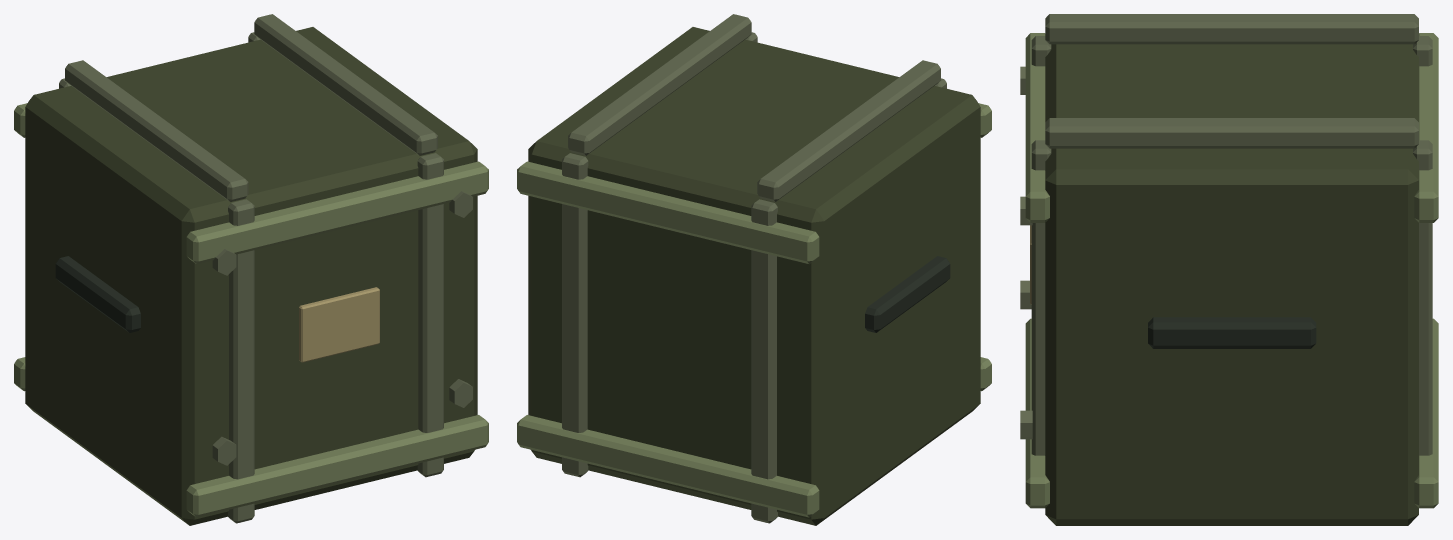
Rendered from crateInstances.obj.
The picture shows the model from 3 angles, left to right: view 1: azimuth 30°, elevation 25°; view 2: azimuth 150°, elevation 25°; view 3: azimuth 270°, elevation 25°; orthographic projection. The views are drawn at different scales.
Visible parts, largest first — view 1: crateInstances; view 2: crateInstances; view 3: crateInstances.
Boxes of the visible parts, x1,y1,x2,y2 form: crateInstances: (14, 14, 488, 525); crateInstances: (517, 14, 991, 525); crateInstances: (1020, 14, 1438, 525).
Bounding box in the file's own units: 0.72 × 0.72 × 0.72.
1 material, 1 textured.
